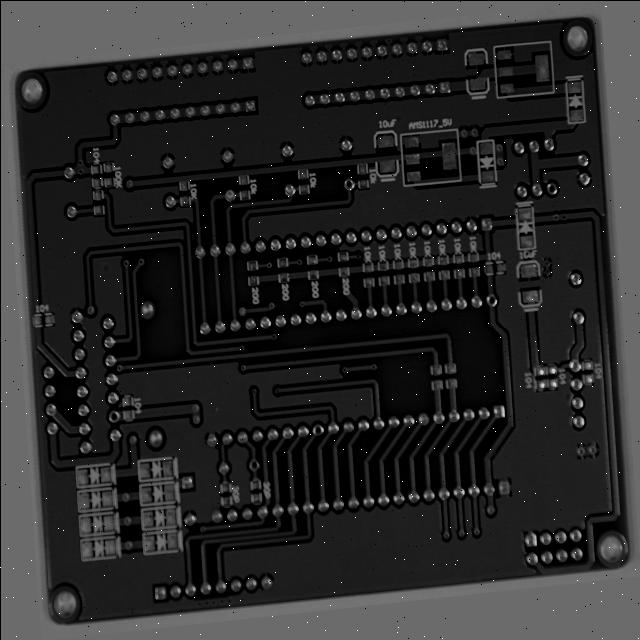missing_hole: (83, 392, 102, 412), (495, 308, 511, 327), (353, 164, 368, 183), (231, 463, 246, 480), (568, 194, 581, 211), (303, 433, 314, 448)
